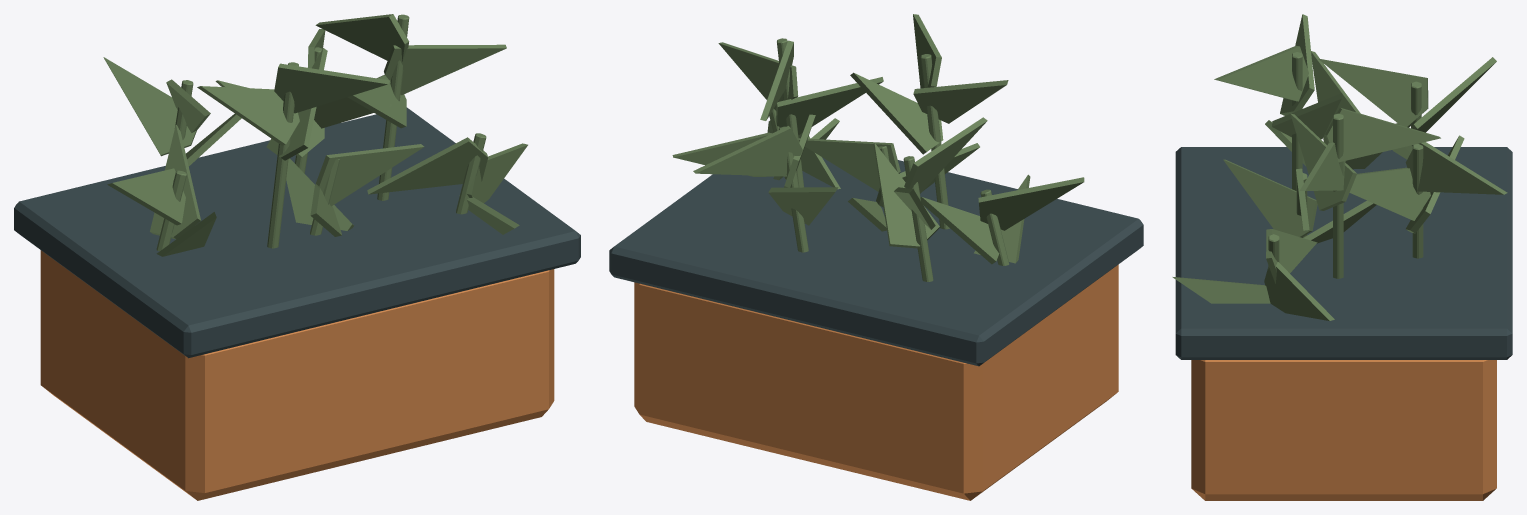
Rendered from planter_overgrowth.glb.
The picture shows the model from 3 angles, left to right: view 1: azimuth 30°, elevation 25°; view 2: azimuth 150°, elevation 25°; view 3: azimuth 270°, elevation 25°; orthographic projection. The views are drawn at different scales.
Visible parts, largest first — view 1: planter_overgrowth_Surface; view 2: planter_overgrowth_Surface; view 3: planter_overgrowth_Surface.
Part boxes in pixels (<box>): planter_overgrowth_Surface: <box>14,14,580,500</box>; planter_overgrowth_Surface: <box>609,14,1143,500</box>; planter_overgrowth_Surface: <box>1172,14,1512,500</box>.
Bounding box in the file's own units: 1.37 × 1.13 × 0.9791.
Materials: 1 (1 with a texture image).
